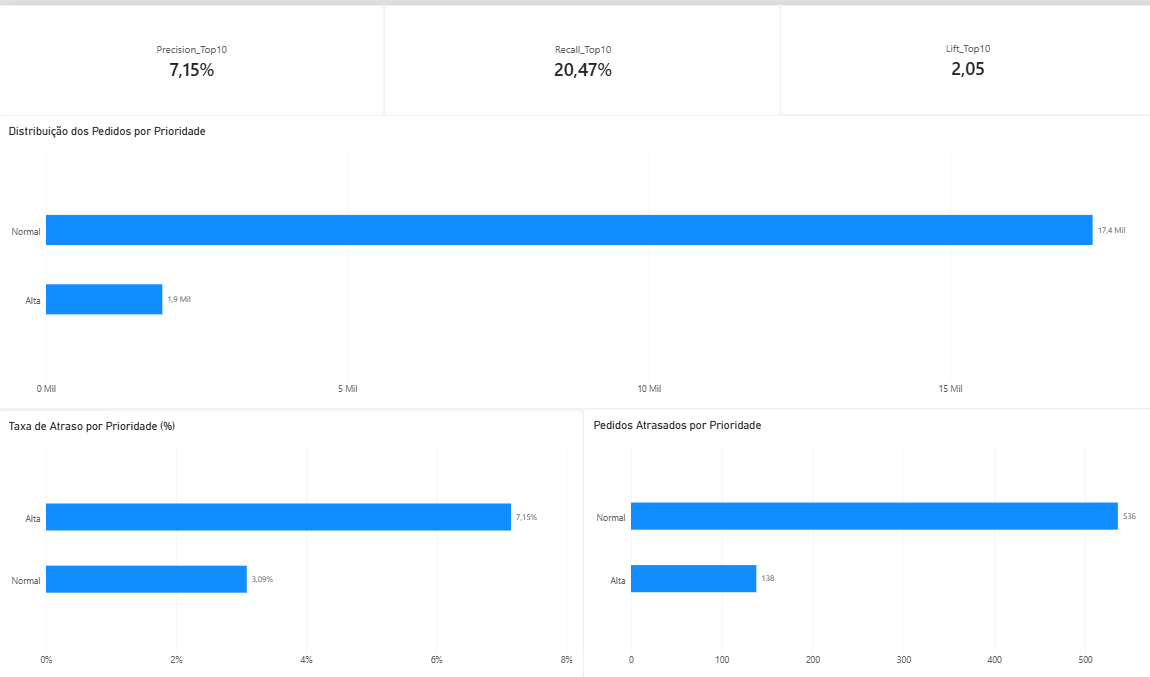

Layout of this report page (visuals, bound fields, positions):
{"tool":"powerbi","page":{"name":"Desempenho do Modelo","canvas":[1920,1080],"ordinal":1},"visuals":[{"type":"cardVisual","fields":{"Data":["foodops_ai_dashboard.Lift_Top10"]},"box":[1252,0,598,176],"z":0},{"type":"cardVisual","fields":{"Data":["foodops_ai_dashboard.Precision_Top10"]},"box":[0,0,618,178],"z":1},{"type":"cardVisual","fields":{"Data":["foodops_ai_dashboard.Recall_Top10"]},"box":[618,0,634,178],"z":2},{"type":"clusteredBarChart","title":"Distribuição dos Pedidos por Prioridade","fields":{"Category":["foodops_ai_dashboard.prioridade"],"Y":["foodops_ai_dashboard.Total_Pedidos"]},"box":[0,176,1850,470],"z":3},{"type":"clusteredBarChart","title":"Pedidos Atrasados por Prioridade","fields":{"Category":["foodops_ai_dashboard.prioridade"],"Y":["foodops_ai_dashboard.Pedidos_Atrasados"]},"box":[936,646,914,434],"z":4},{"type":"clusteredBarChart","title":"Taxa de Atraso por Prioridade (%)","fields":{"Category":["foodops_ai_dashboard.prioridade"],"Y":["foodops_ai_dashboard.Taxa_Atraso"]},"box":[0,648.4,936.5,432.2],"z":5},{"type":"textbox","box":[960,832,472,248],"z":6}]}

Visuals, with their boxes on the page's 1920x1080 design canvas (x1, y1, x2, y2). These are canvas units, not pixel positions in the 1150x677 screenshot, which may show the page scaled, cropped or inside an application window:
cardVisual - foodops_ai_dashboard.Lift_Top10: (1252, 0, 1850, 176)
cardVisual - foodops_ai_dashboard.Precision_Top10: (0, 0, 618, 178)
cardVisual - foodops_ai_dashboard.Recall_Top10: (618, 0, 1252, 178)
"Distribuição dos Pedidos por Prioridade" clusteredBarChart: (0, 176, 1850, 646)
"Pedidos Atrasados por Prioridade" clusteredBarChart: (936, 646, 1850, 1080)
"Taxa de Atraso por Prioridade (%)" clusteredBarChart: (0, 648, 936, 1081)
textbox: (960, 832, 1432, 1080)
